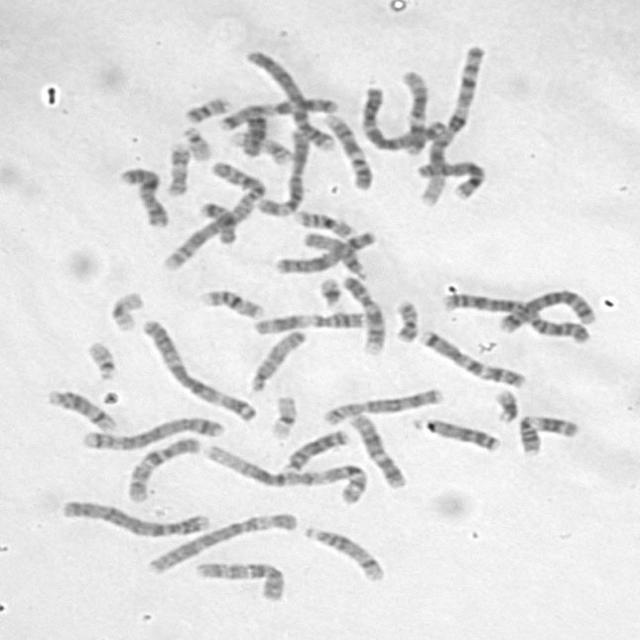A1: (416, 40, 488, 206), (200, 439, 370, 506)
A2: (157, 156, 268, 274), (440, 288, 596, 345)
A3: (136, 314, 260, 423), (356, 82, 447, 152)
B4: (241, 44, 338, 154), (56, 494, 216, 538)
B5: (78, 412, 228, 452), (493, 285, 599, 335)
C10: (122, 432, 203, 504), (190, 557, 288, 603)
C11: (247, 308, 370, 336), (513, 409, 581, 456)
C12: (345, 410, 409, 490), (397, 66, 431, 156)
C6: (142, 507, 301, 575), (253, 124, 312, 216)
C7: (415, 324, 531, 389), (214, 93, 340, 132)
C8: (319, 384, 446, 426), (413, 157, 489, 200)
C9: (319, 109, 376, 191), (338, 272, 388, 356)
D13: (279, 424, 351, 474), (417, 414, 502, 454)
D14: (299, 522, 387, 583), (42, 385, 119, 432)
D15: (244, 325, 308, 393), (298, 227, 369, 280)
E16: (197, 284, 267, 321), (291, 206, 357, 239)
E17: (225, 127, 294, 166), (162, 138, 192, 198)
E18: (196, 197, 240, 246), (239, 111, 269, 160)
F19: (104, 287, 147, 333), (265, 390, 300, 440)
F20: (180, 92, 233, 124), (390, 296, 421, 344)
G21: (489, 385, 522, 424), (314, 272, 346, 310)
G22: (82, 336, 119, 382), (178, 122, 215, 162)
X: (270, 226, 378, 276), (115, 162, 172, 228)
